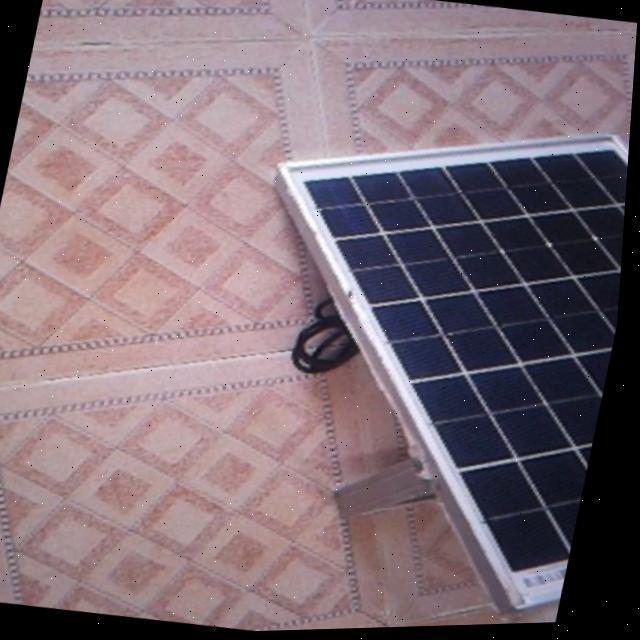Normal Solar Panel: (201, 96, 634, 628)
